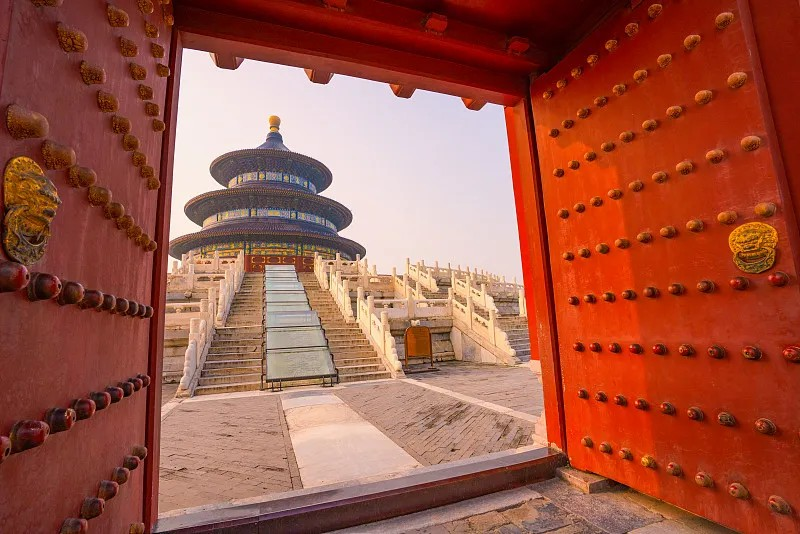Heaven: (163, 115, 368, 271)
